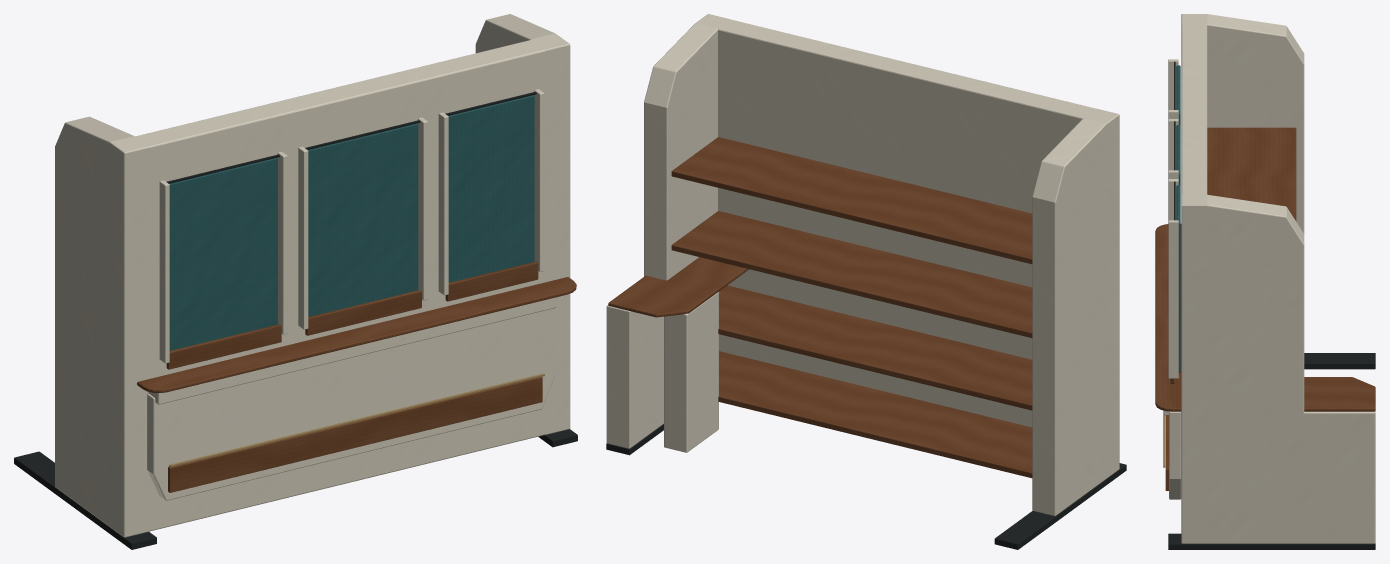
The model's file is AST-SAL-006.glb.
3 renders of one model, left to right at view 1: azimuth 30°, elevation 25°; view 2: azimuth 150°, elevation 25°; view 3: azimuth 270°, elevation 25°, orthographic. The views are drawn at different scales.
Parts seen in each view (by area): view 1: AST-SAL-006__ivory_enamel, AST-SAL-006__teal_weave, AST-SAL-006__warm_walnut, AST-SAL-006__dark_rubber, AST-SAL-006__champagne_metal; view 2: AST-SAL-006__ivory_enamel, AST-SAL-006__warm_walnut, AST-SAL-006__dark_rubber; view 3: AST-SAL-006__ivory_enamel, AST-SAL-006__warm_walnut, AST-SAL-006__dark_rubber, AST-SAL-006__teal_weave.
Part boxes in pixels (bbox=[...]): AST-SAL-006__ivory_enamel: bbox=[55, 14, 570, 537]; AST-SAL-006__teal_weave: bbox=[169, 95, 534, 350]; AST-SAL-006__warm_walnut: bbox=[137, 261, 576, 492]; AST-SAL-006__dark_rubber: bbox=[14, 92, 577, 549]; AST-SAL-006__champagne_metal: bbox=[169, 373, 544, 467]; AST-SAL-006__ivory_enamel: bbox=[606, 14, 1119, 515]; AST-SAL-006__warm_walnut: bbox=[608, 137, 1032, 478]; AST-SAL-006__dark_rubber: bbox=[606, 424, 1126, 549]; AST-SAL-006__ivory_enamel: bbox=[1163, 14, 1375, 543]; AST-SAL-006__warm_walnut: bbox=[1155, 127, 1375, 490]; AST-SAL-006__dark_rubber: bbox=[1168, 61, 1375, 549]; AST-SAL-006__teal_weave: bbox=[1176, 65, 1180, 372].
Size of the model in its own units: 2.8 by 2.35 by 1.36.
5 materials, 5 textured.
